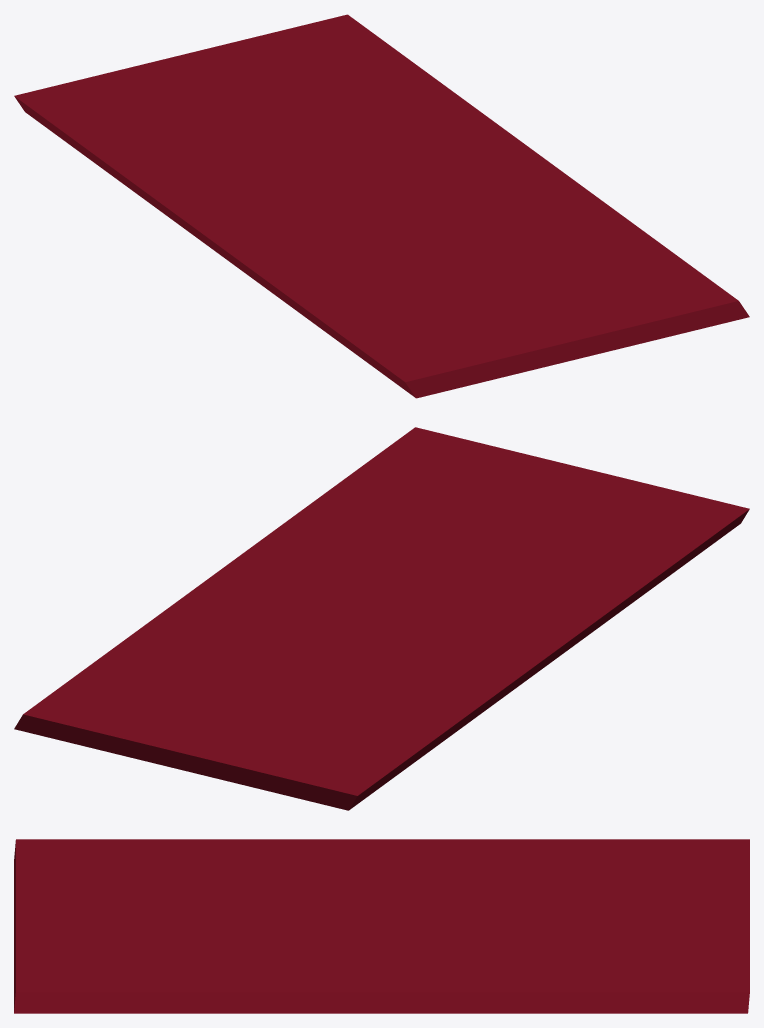
Rendered from BathtubBlood.fbx.
The picture shows the model from 3 angles, top to bottom: view 1: azimuth 30°, elevation 25°; view 2: azimuth 150°, elevation 25°; view 3: azimuth 270°, elevation 25°; orthographic projection. The views are drawn at different scales.
Visible parts, largest first — view 1: BathTubBlood; view 2: BathTubBlood; view 3: BathTubBlood.
Part boxes in pixels (x1=…): BathTubBlood: x1=14, y1=14, x2=749, y2=398; BathTubBlood: x1=14, y1=427, x2=749, y2=810; BathTubBlood: x1=14, y1=839, x2=749, y2=1013.
Size of the model in its own units: 200 by 9.96 by 395.
